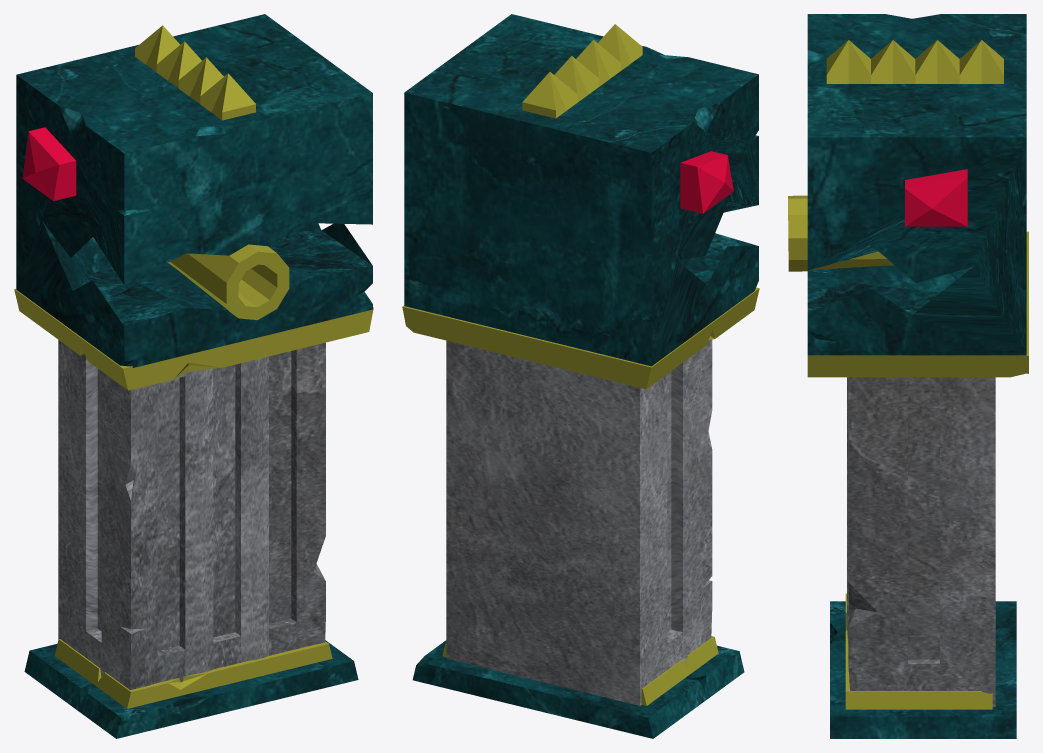
File: FireTrap_02.glb
3 views of the same model, side by side, from view 1: azimuth 30°, elevation 25°; view 2: azimuth 150°, elevation 25°; view 3: azimuth 270°, elevation 25° (orthographic). The views are drawn at different scales.
Visible parts, largest first — view 1: FireTrap; view 2: FireTrap; view 3: FireTrap.
Boxes of the visible parts, x1,y1,x2,y2 form: FireTrap: [14, 14, 373, 738]; FireTrap: [402, 14, 759, 738]; FireTrap: [788, 14, 1028, 738].
Bounding box in the file's own units: 1.23 × 2.44 × 0.8338.
Materials: 4 (2 with a texture image).
